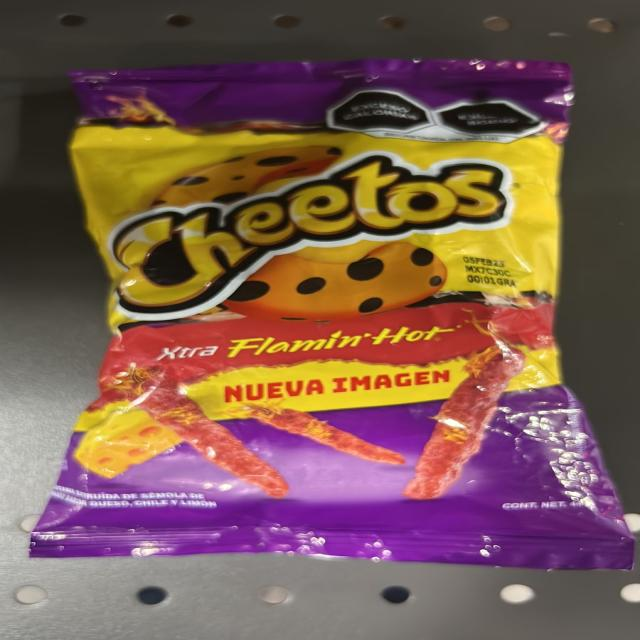cheetosFlaminHot: (105, 66, 573, 569)
